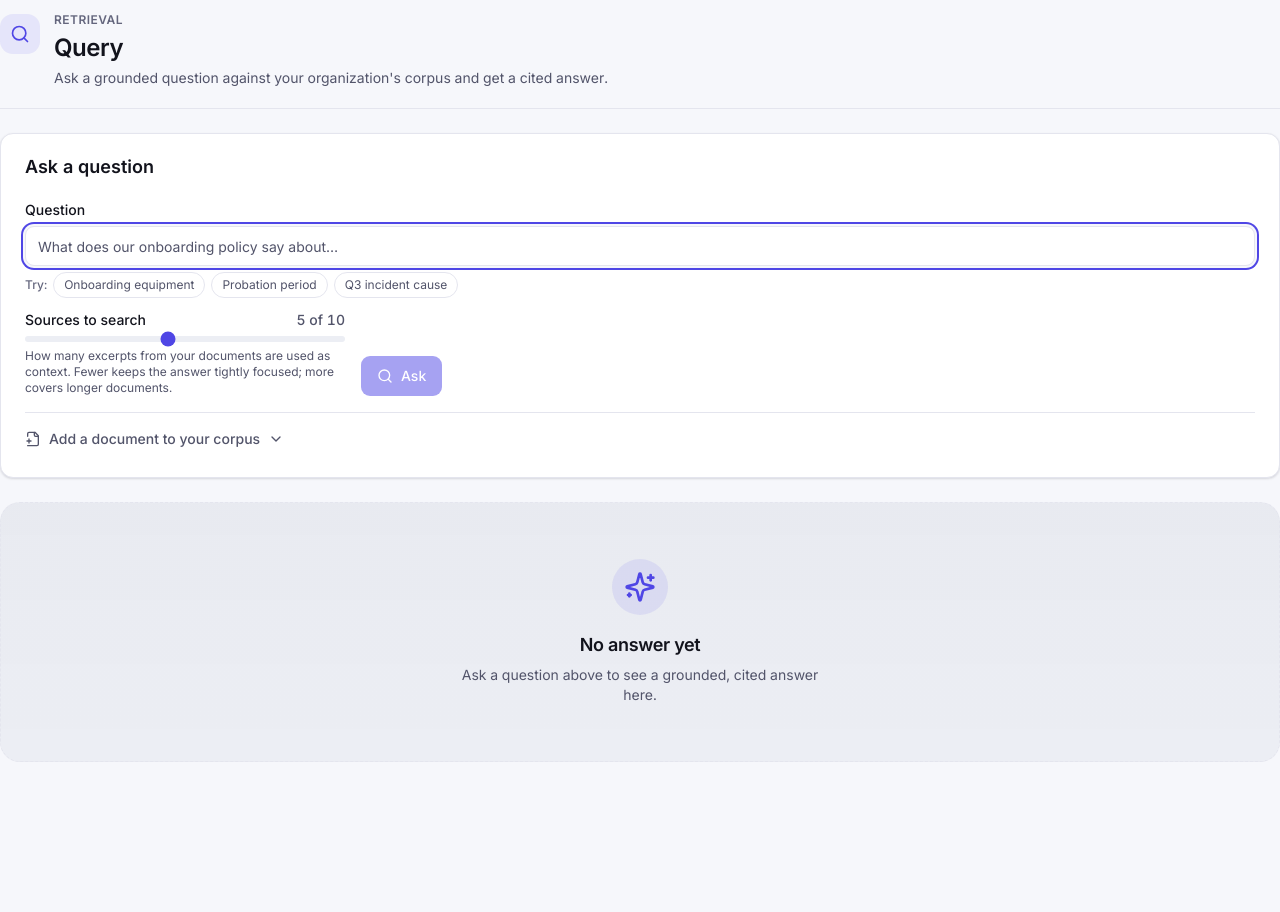
Test: Cross-cutting error handling (Task 26.1) › shows a 429 rate-limit notice and preserves unsubmitted input (5.4)
This screenshot has width=1280, height=912.
In the field with test id "query-input": (640, 246) left=25, top=226, right=1255, bottom=266, type "expensive question"
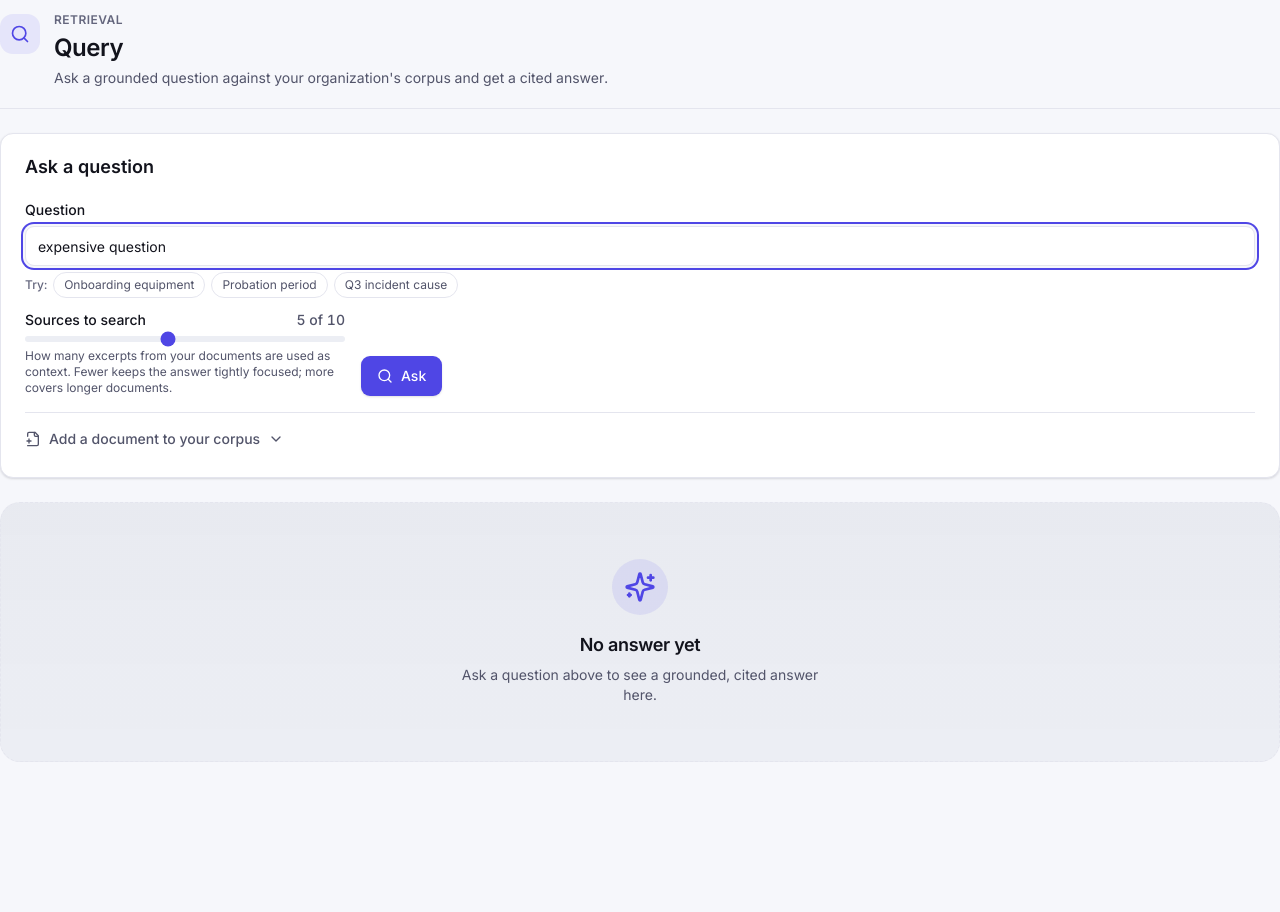
Click the button with test id "query-submit": (402, 376) left=361, top=356, right=442, bottom=396
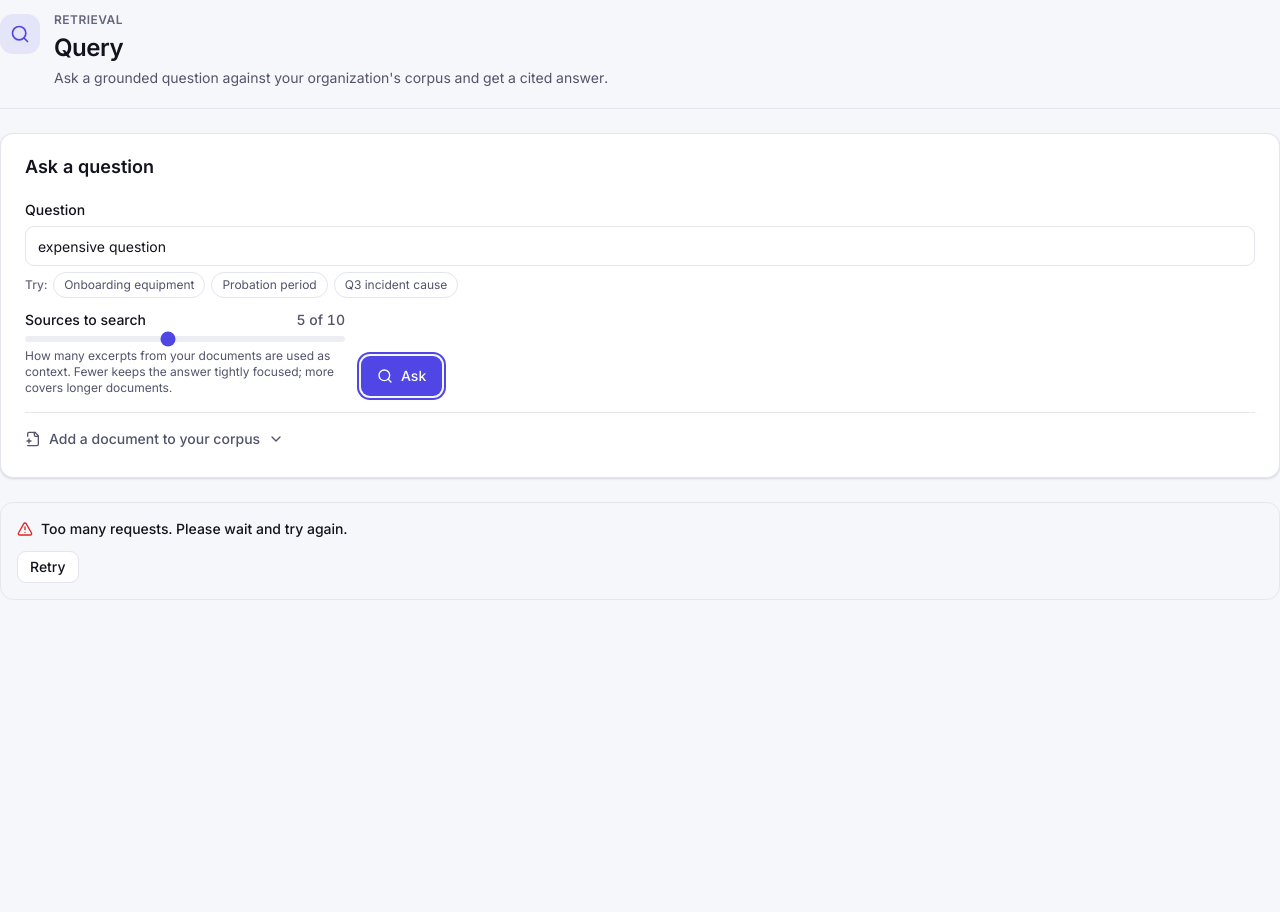
Result: the element with test id "query-error" is shown at left=0, top=502, right=1279, bottom=600
Result: the message with test id "error-banner" shows "Too many requests" at left=41, top=520, right=347, bottom=537
